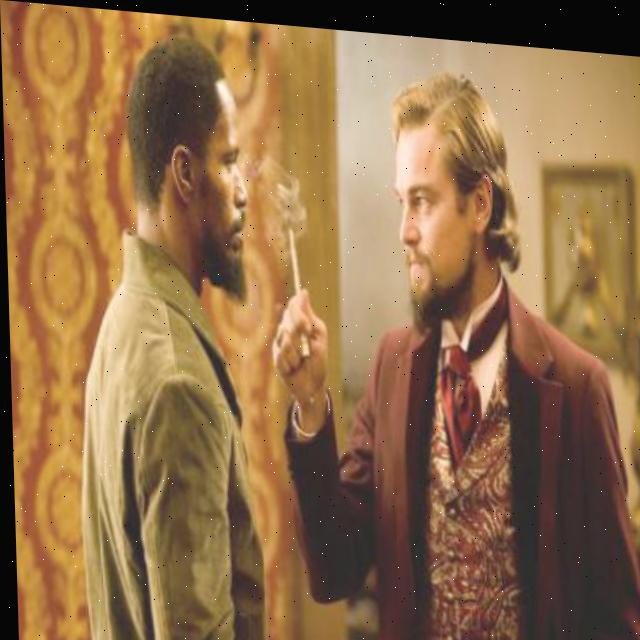cigarette: (285, 218, 311, 355)
